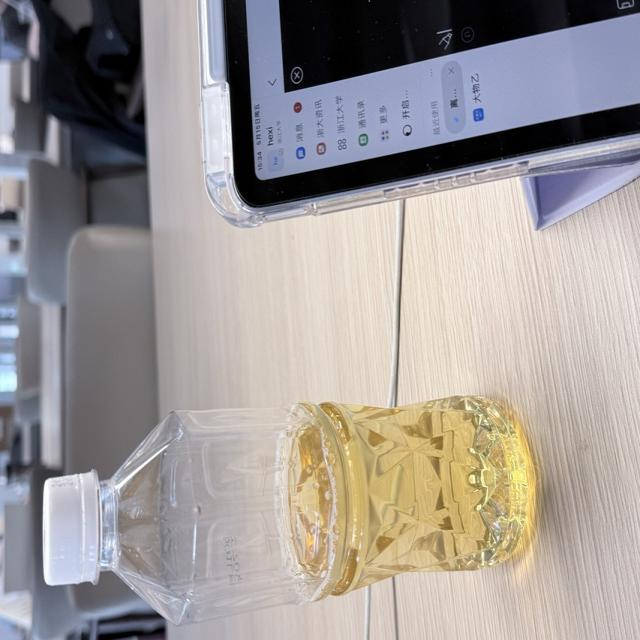medium: (44, 396, 527, 623)
